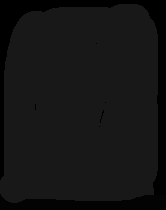fp: (2, 1, 162, 203)
